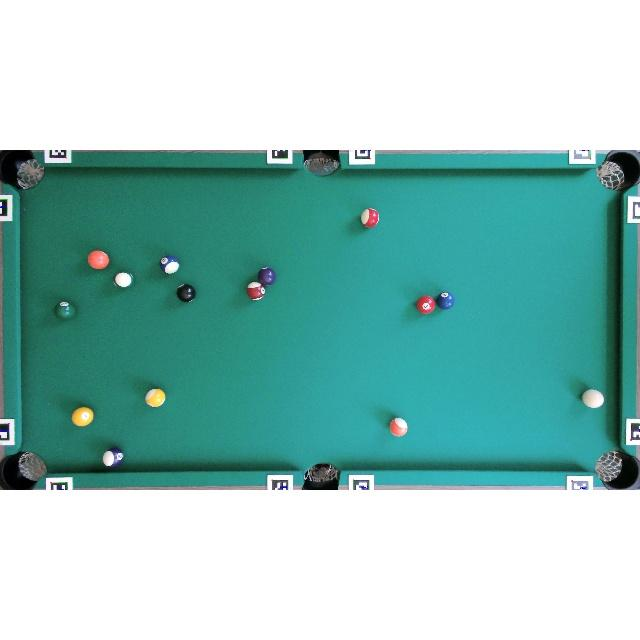cue ball: (582, 389, 604, 408)
other: (70, 406, 94, 427), (54, 299, 76, 320), (102, 447, 124, 467), (87, 250, 109, 269), (145, 388, 165, 408), (160, 255, 180, 274), (176, 284, 196, 302), (361, 208, 379, 228), (416, 296, 436, 314), (258, 267, 276, 286), (247, 282, 266, 300), (390, 418, 408, 436), (436, 292, 454, 309), (114, 272, 133, 288)
